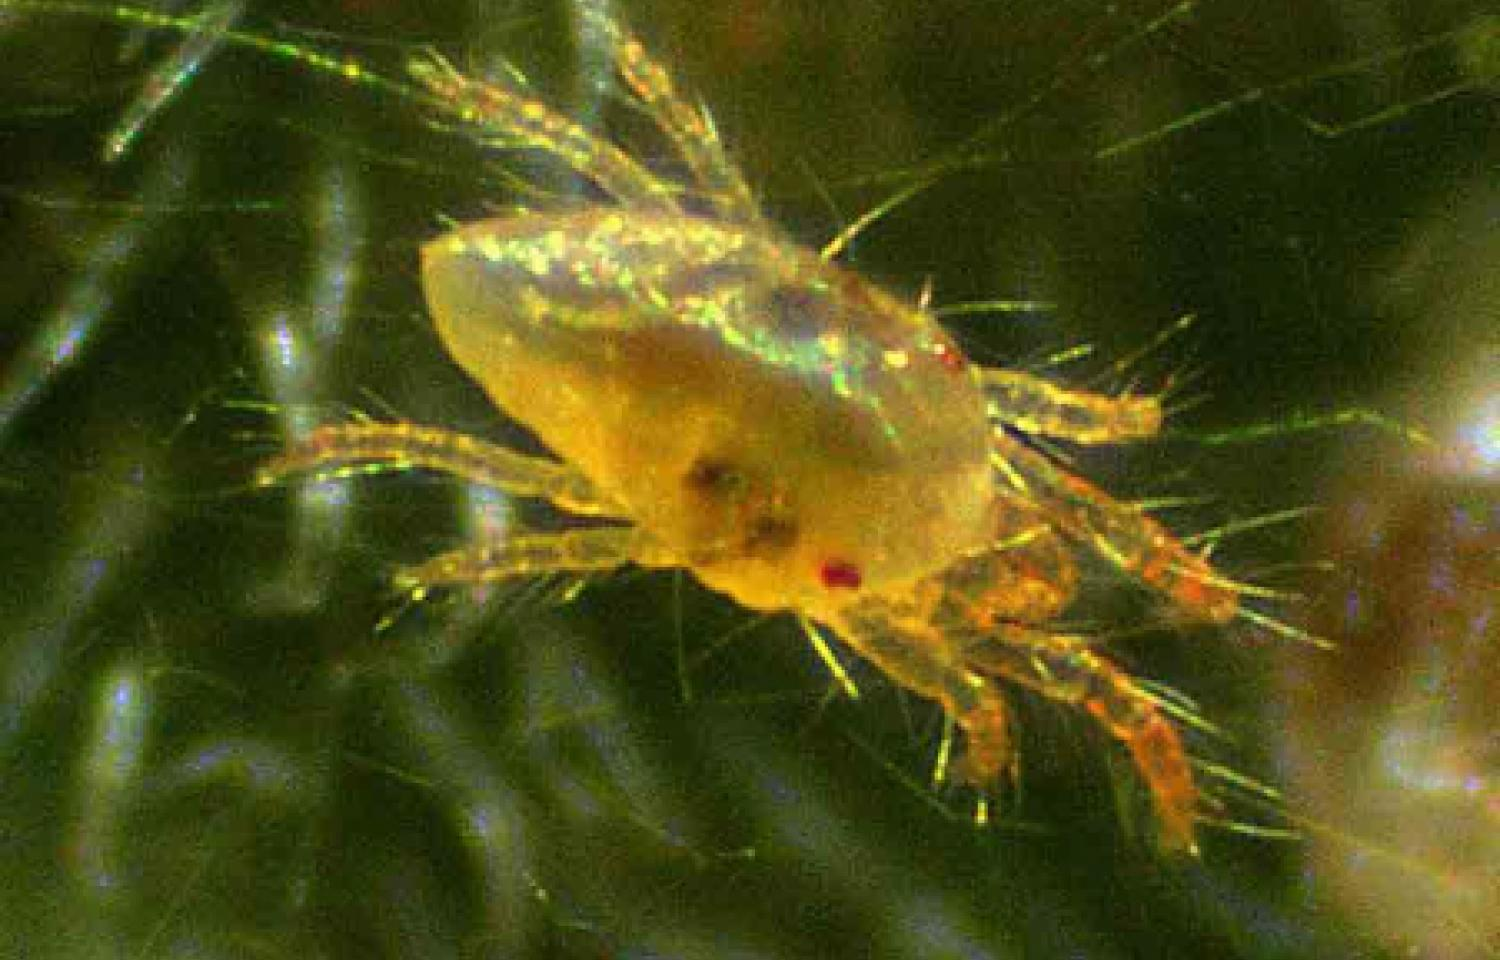Mites: (295, 28, 1270, 881)
